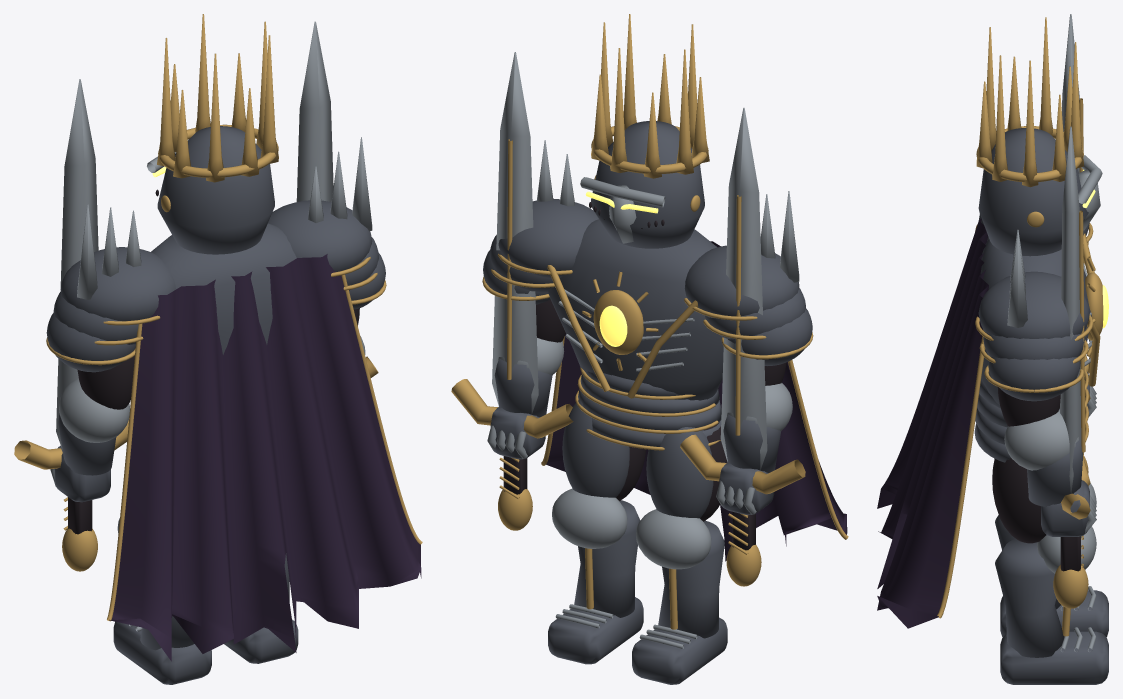
The model's file is malakar-raw.glb.
3 renders of one model, left to right at view 1: azimuth 30°, elevation 25°; view 2: azimuth 150°, elevation 25°; view 3: azimuth 270°, elevation 25°, orthographic. The views are drawn at different scales.
Visible parts, largest first — view 1: Cape_Royal charcoal velvet, Head_Blackened tempered steel, Arm_L_Blackened tempered steel, Head_Antique electrum, Torso_Blackened tempered steel, Arm_R_Blackened tempered steel, Sword_L_Burnished plate edges, Arm_L_Burnished plate edges, Sword_R_Burnished plate edges, Forearm_L_Blackened tempered steel, Foot_L_Blackened tempered steel, Cape_Antique electrum (+7 smaller); view 2: Torso_Blackened tempered steel, Head_Antique electrum, Arm_L_Blackened tempered steel, Sword_L_Burnished plate edges, Sword_R_Burnished plate edges, Cape_Royal charcoal velvet, Head_Blackened tempered steel, Torso_Antique electrum, Arm_R_Blackened tempered steel, Sword_L_Antique electrum, Sword_R_Antique electrum, Leg_L_Blackened tempered steel (+26 smaller); view 3: Cape_Royal charcoal velvet, Arm_R_Blackened tempered steel, Head_Antique electrum, Head_Blackened tempered steel, Knee_R_Blackened tempered steel, Foot_R_Blackened tempered steel, Sword_R_Burnished plate edges, Arm_R_Burnished plate edges, Torso_Blackened tempered steel, Forearm_R_Blackened tempered steel, Leg_R_Oiled leather, Sword_R_Antique electrum (+9 smaller).
Boxes of the visible parts, x1,y1,x2,y2 form: Cape_Royal charcoal velvet: (109,254,421,661); Head_Blackened tempered steel: (157,126,274,254); Arm_L_Blackened tempered steel: (46,247,175,372); Head_Antique electrum: (157,14,278,212); Torso_Blackened tempered steel: (151,223,296,354); Arm_R_Blackened tempered steel: (268,200,385,309); Sword_L_Burnished plate edges: (56,79,98,450); Arm_L_Burnished plate edges: (59,204,141,442); Sword_R_Burnished plate edges: (296,21,333,201); Forearm_L_Blackened tempered steel: (54,413,116,502); Foot_L_Blackened tempered steel: (113,621,211,684); Cape_Antique electrum: (107,274,422,621); Torso_Blackened tempered steel: (548,219,723,446); Head_Antique electrum: (591,14,709,211); Arm_L_Blackened tempered steel: (684,245,812,365); Sword_L_Burnished plate edges: (720,108,767,470); Sword_R_Burnished plate edges: (492,52,538,414); Cape_Royal charcoal velvet: (546,241,847,561); Head_Blackened tempered steel: (591,121,704,248); Torso_Antique electrum: (547,265,720,450); Arm_R_Blackened tempered steel: (483,198,598,304); Sword_L_Antique electrum: (680,195,805,586); Sword_R_Antique electrum: (451,139,573,530); Leg_L_Blackened tempered steel: (646,427,713,518); Cape_Royal charcoal velvet: (877,218,988,628); Arm_R_Blackened tempered steel: (978,271,1089,401); Head_Antique electrum: (976,17,1083,227); Head_Blackened tempered steel: (978,128,1088,256); Knee_R_Blackened tempered steel: (995,539,1064,657); Foot_R_Blackened tempered steel: (1000,631,1108,684); Sword_R_Burnished plate edges: (1060,126,1081,493); Arm_R_Burnished plate edges: (1004,229,1078,470); Torso_Blackened tempered steel: (974,239,1091,462); Forearm_R_Blackened tempered steel: (1027,439,1089,536); Leg_R_Oiled leather: (992,458,1045,543); Sword_R_Antique electrum: (1053,210,1090,608).
Bounding box in the file's own units: 1.5 × 2.51 × 0.854.
